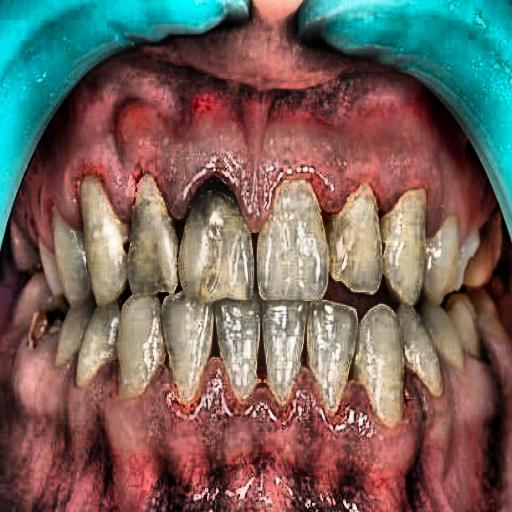Gingivitis: (4, 321, 512, 476), (54, 87, 472, 224)
